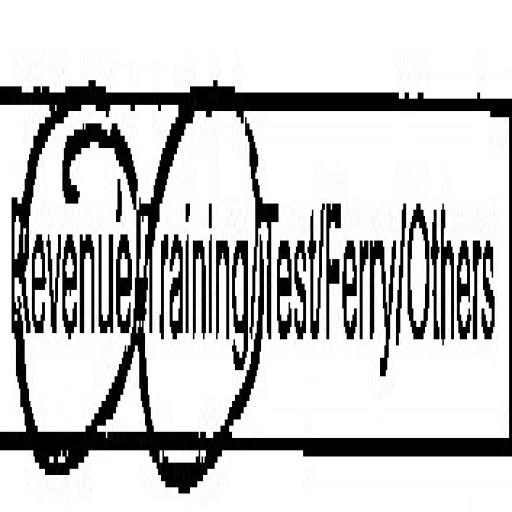check: (0, 0, 142, 512), (144, 39, 261, 512)
